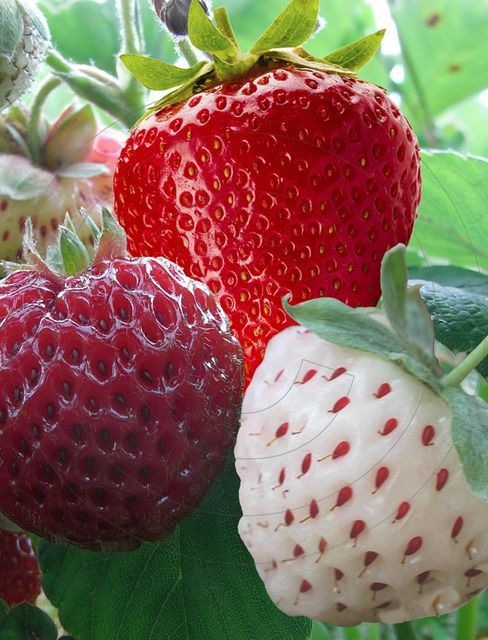ripe: (115, 30, 444, 344), (2, 249, 228, 568), (5, 525, 50, 617)
unripe: (231, 320, 484, 627), (2, 142, 94, 289), (0, 2, 75, 123)
